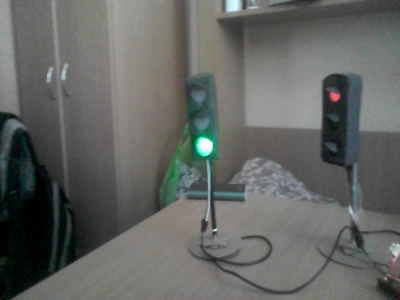trafficlight_green: (187, 77, 219, 160)
trafficlight_red: (323, 75, 350, 162)
